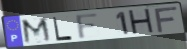1: (115, 11, 130, 36)
F: (153, 5, 179, 35), (74, 12, 100, 41)
H: (126, 7, 156, 36)
L: (52, 16, 74, 42)
M: (20, 17, 54, 46)
